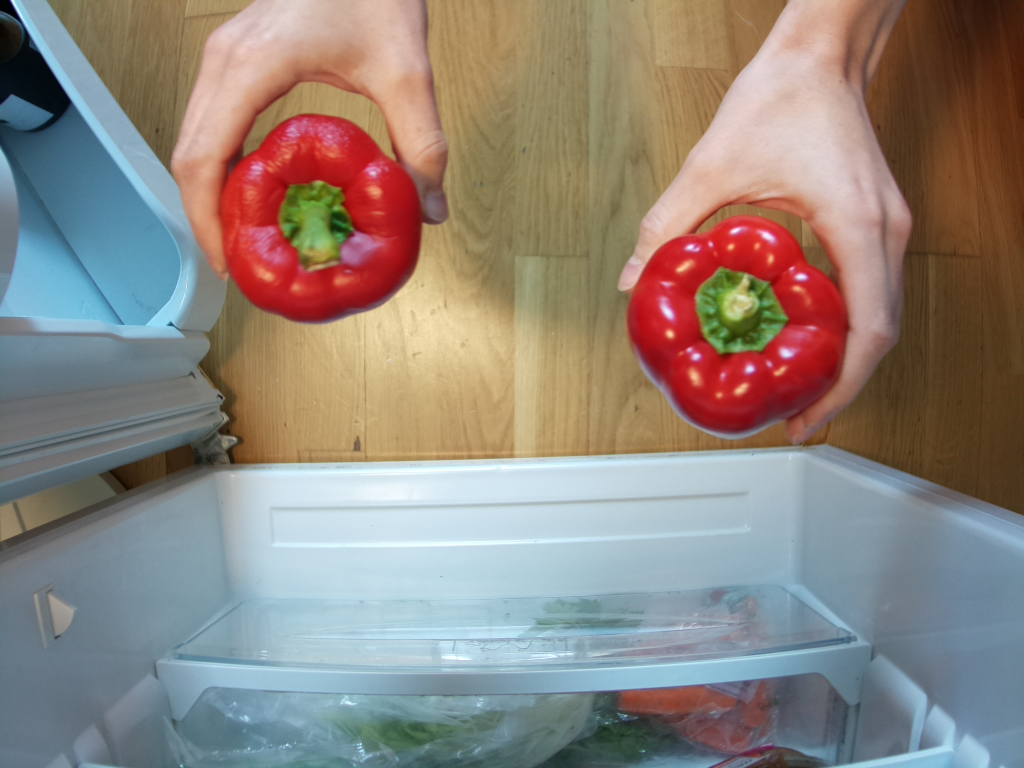pepper: (625, 214, 850, 441)
pepper-bad: (217, 112, 422, 325)
